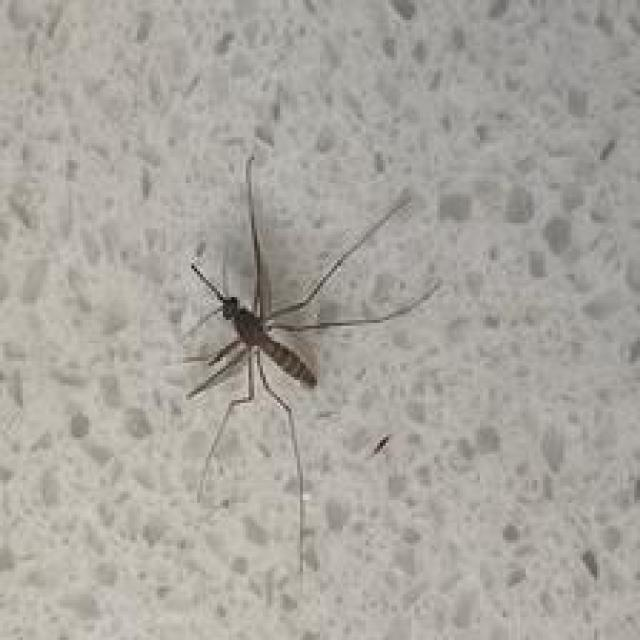Culex: (177, 153, 440, 573)
